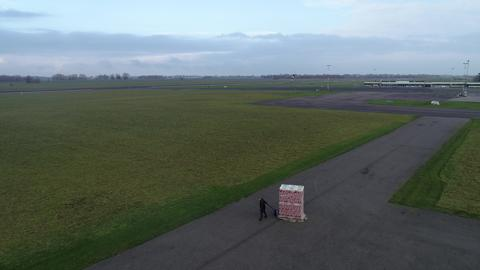RockwoolPallet: (278, 182, 306, 222)
